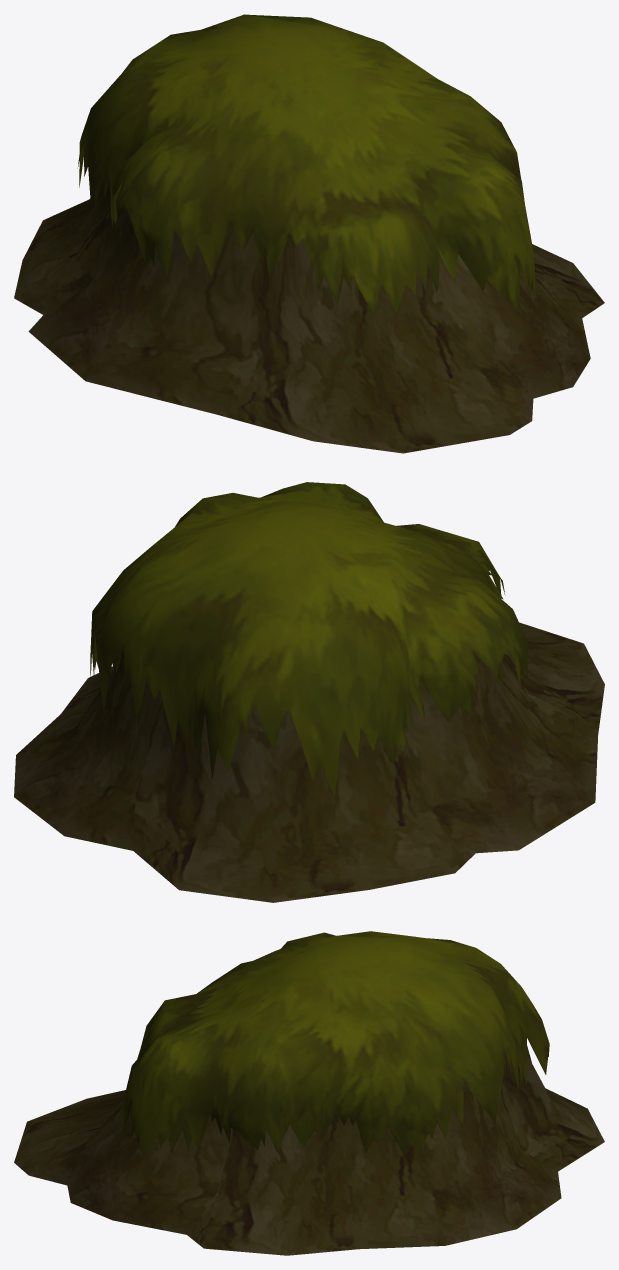
File: lumina_construct_trimadd_02.FBX
3 views of the same model, one above another, from view 1: azimuth 30°, elevation 25°; view 2: azimuth 150°, elevation 25°; view 3: azimuth 270°, elevation 25° (orthographic). The views are drawn at different scales.
Parts seen in each view (by area): view 1: lumina_construct_trimadd_02; view 2: lumina_construct_trimadd_02; view 3: lumina_construct_trimadd_02.
Boxes of the visible parts, x1,y1,x2,y2 form: lumina_construct_trimadd_02: [14, 14, 604, 453]; lumina_construct_trimadd_02: [14, 482, 604, 902]; lumina_construct_trimadd_02: [14, 931, 604, 1255].
Bounding box in the file's own units: 9.17 × 4.34 × 11.31.
